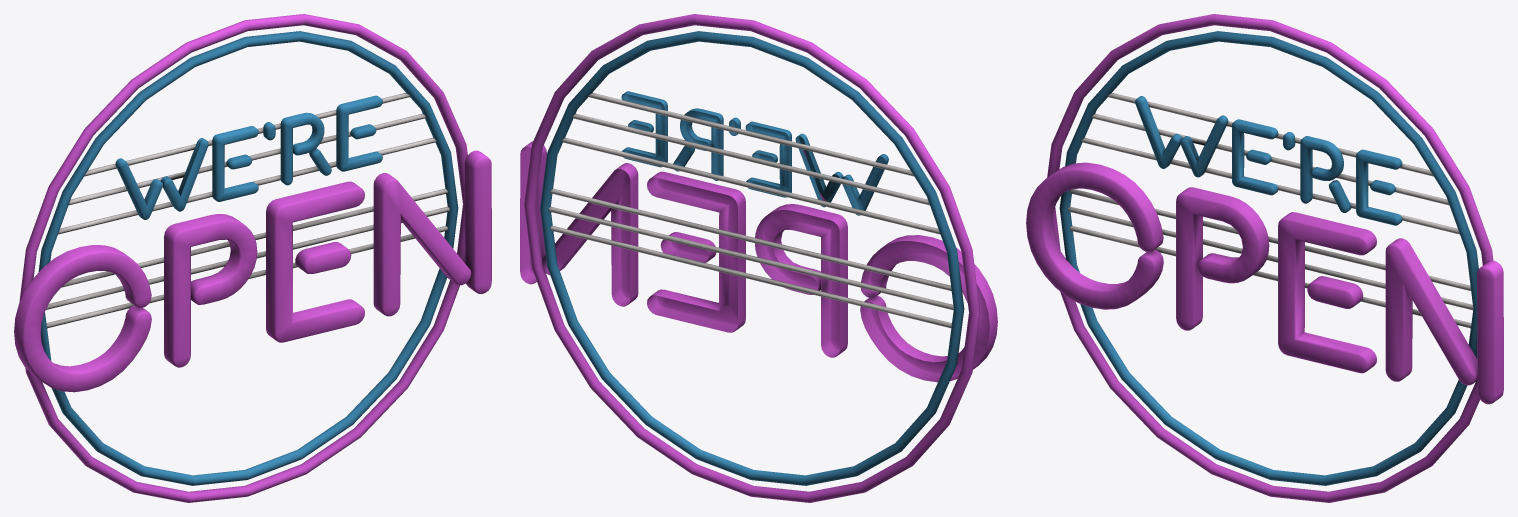
The model's file is video_store_open_sign.fbx.
3 renders of one model, left to right at view 1: azimuth 30°, elevation 25°; view 2: azimuth 150°, elevation 25°; view 3: azimuth 330°, elevation 25°, orthographic.
Visible parts, largest first — view 1: Mesh14_WE_RE1_Group1_Model; view 2: Mesh14_WE_RE1_Group1_Model; view 3: Mesh14_WE_RE1_Group1_Model.
Boxes of the visible parts, x1,y1,x2,y2 form: Mesh14_WE_RE1_Group1_Model: (14, 14, 491, 502); Mesh14_WE_RE1_Group1_Model: (520, 14, 997, 502); Mesh14_WE_RE1_Group1_Model: (1026, 14, 1503, 502).
Size of the model in its own units: 52.81 by 51.1 by 2.85.
1 material, 1 textured.
